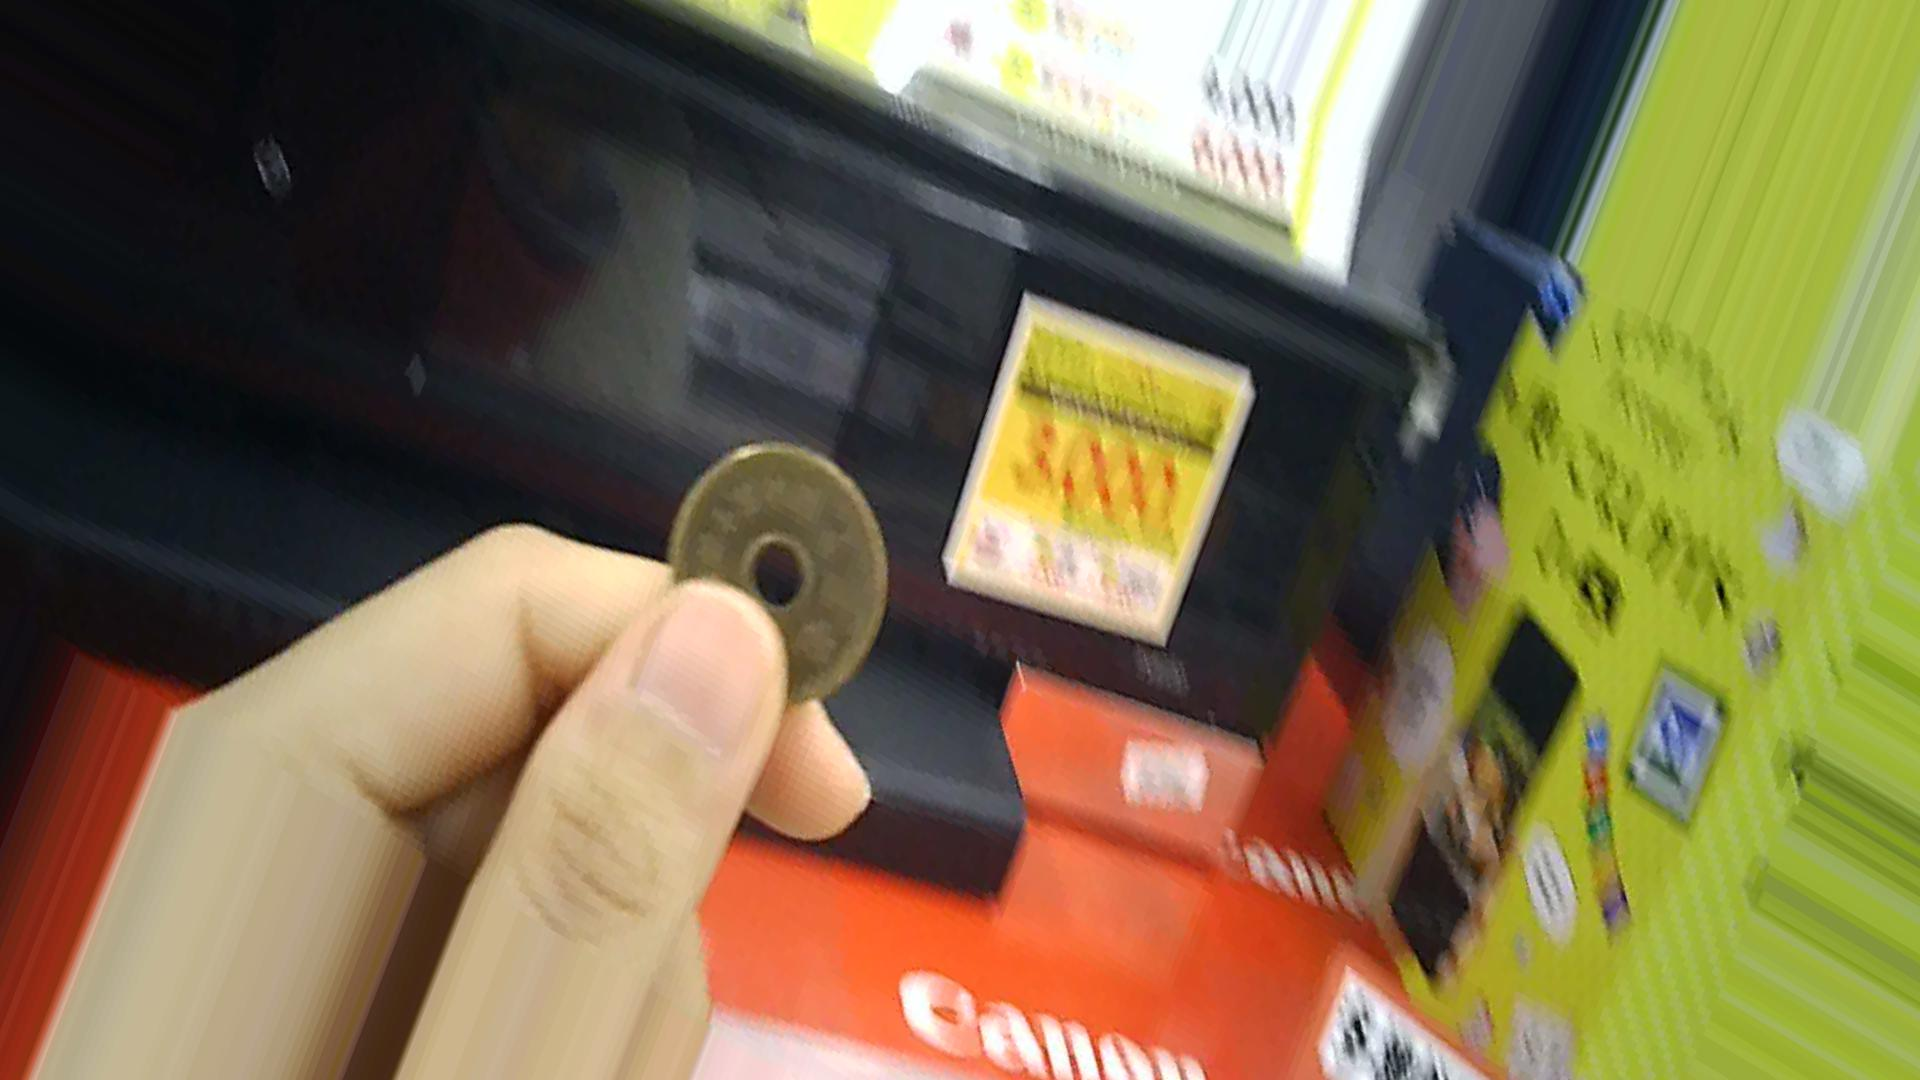5 Yen: (670, 434, 877, 704)
